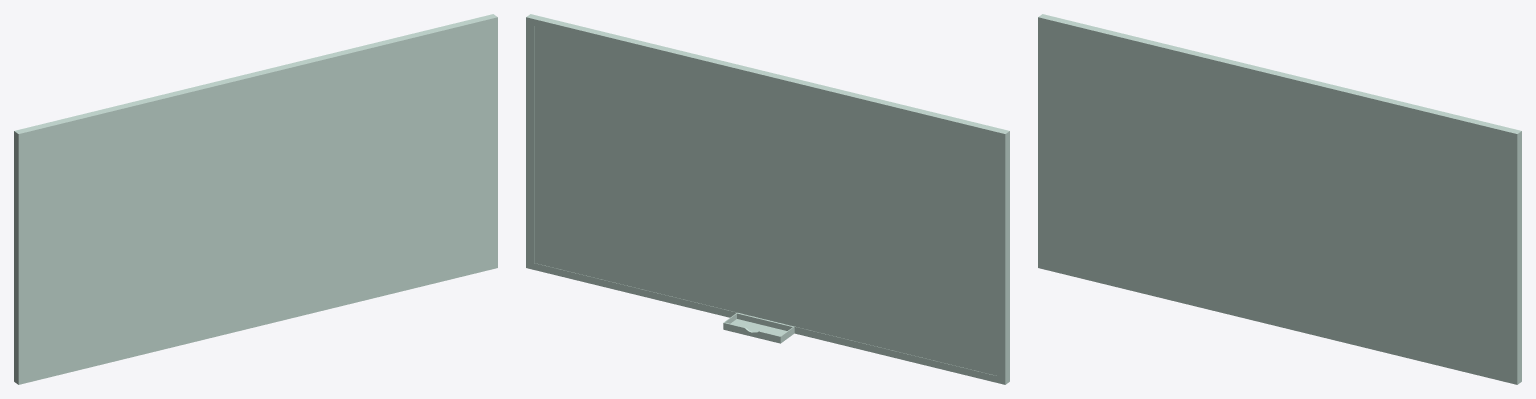
The model's file is Pizarra.fbx.
3 renders of one model, left to right at view 1: azimuth 30°, elevation 25°; view 2: azimuth 150°, elevation 25°; view 3: azimuth 330°, elevation 25°, orthographic.
Visible parts, largest first — view 1: pCube106; view 2: pCube106, pCube107; view 3: pCube106.
Part boxes in pixels (<box>): pCube106: <box>14,14,497,384</box>; pCube106: <box>526,14,1009,384</box>; pCube107: <box>723,313,794,343</box>; pCube106: <box>1038,14,1521,384</box>.
Size of the model in its own units: 10 by 5 by 0.6607.
